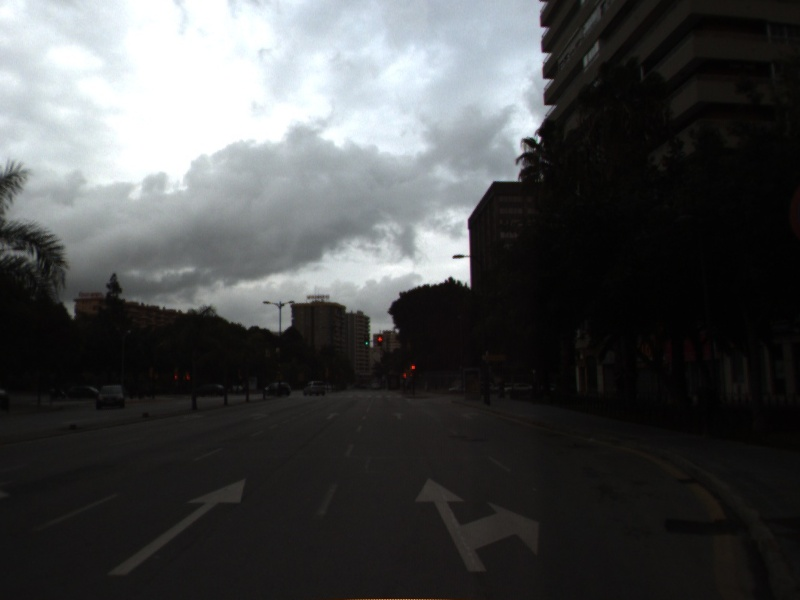LEFT: (247, 411, 270, 422)
RIGHT: (459, 410, 482, 422)
STRAIGHT: (102, 474, 251, 580), (323, 411, 342, 422), (389, 410, 407, 421)
STRAIGHT_RIGHT: (410, 473, 544, 575)
